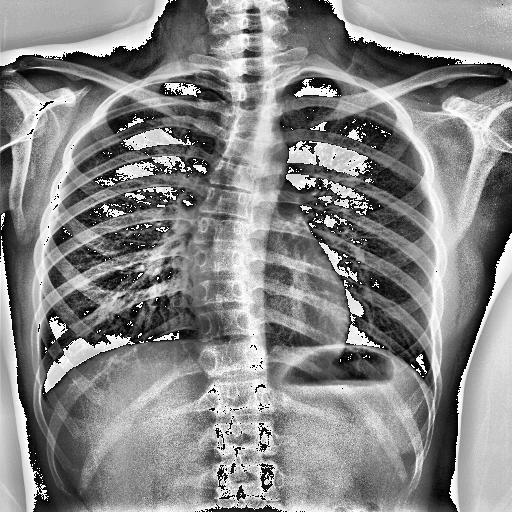9- Other lesion: (190, 126, 270, 415), (194, 108, 274, 377), (187, 162, 259, 338)
